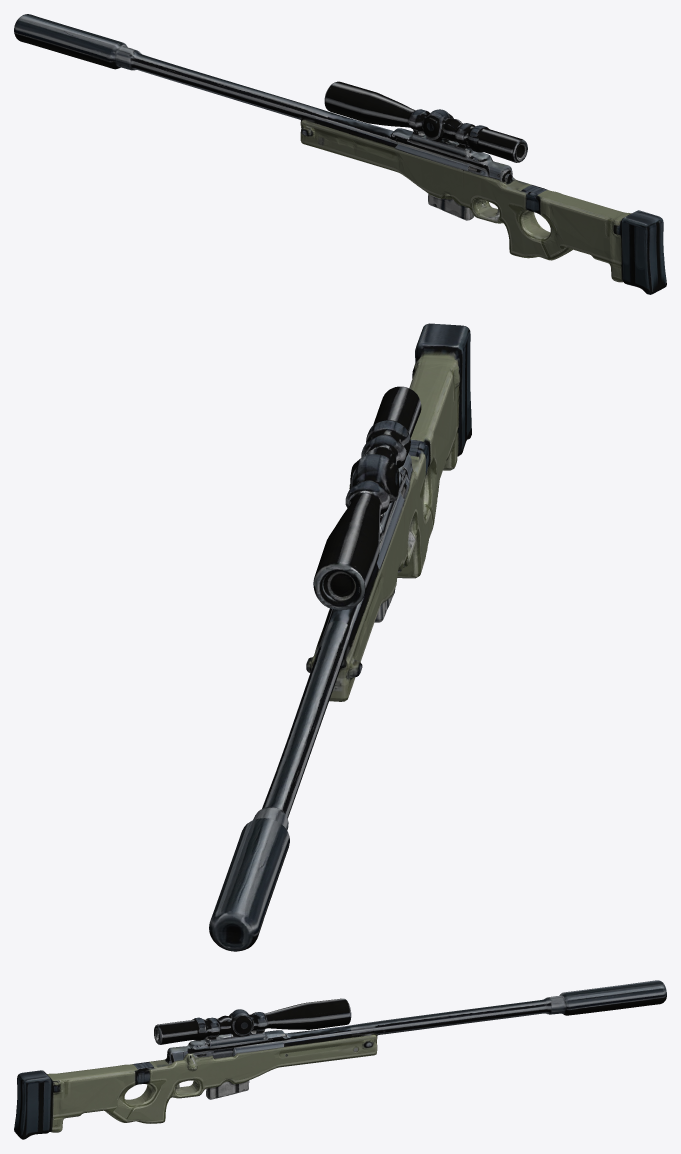
Rendered from sniper.glb.
The picture shows the model from 3 angles, top to bottom: view 1: azimuth 30°, elevation 25°; view 2: azimuth 150°, elevation 25°; view 3: azimuth 270°, elevation 25°; orthographic projection. The views are drawn at different scales.
Parts seen in each view (by area): view 1: tripo_node_a0d2d606-cfcd-498c-b594-680c7c5497e8; view 2: tripo_node_a0d2d606-cfcd-498c-b594-680c7c5497e8; view 3: tripo_node_a0d2d606-cfcd-498c-b594-680c7c5497e8.
Part boxes in pixels (<box>): tripo_node_a0d2d606-cfcd-498c-b594-680c7c5497e8: <box>14,14,666,294</box>; tripo_node_a0d2d606-cfcd-498c-b594-680c7c5497e8: <box>209,323,471,951</box>; tripo_node_a0d2d606-cfcd-498c-b594-680c7c5497e8: <box>14,980,666,1139</box>.
Size of the model in its own units: 0.4122 by 0.1626 by 1.
Materials: 1 (1 with a texture image).
